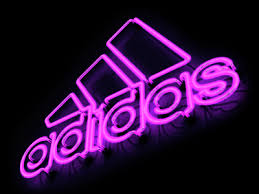adidas: (16, 17, 242, 179)
